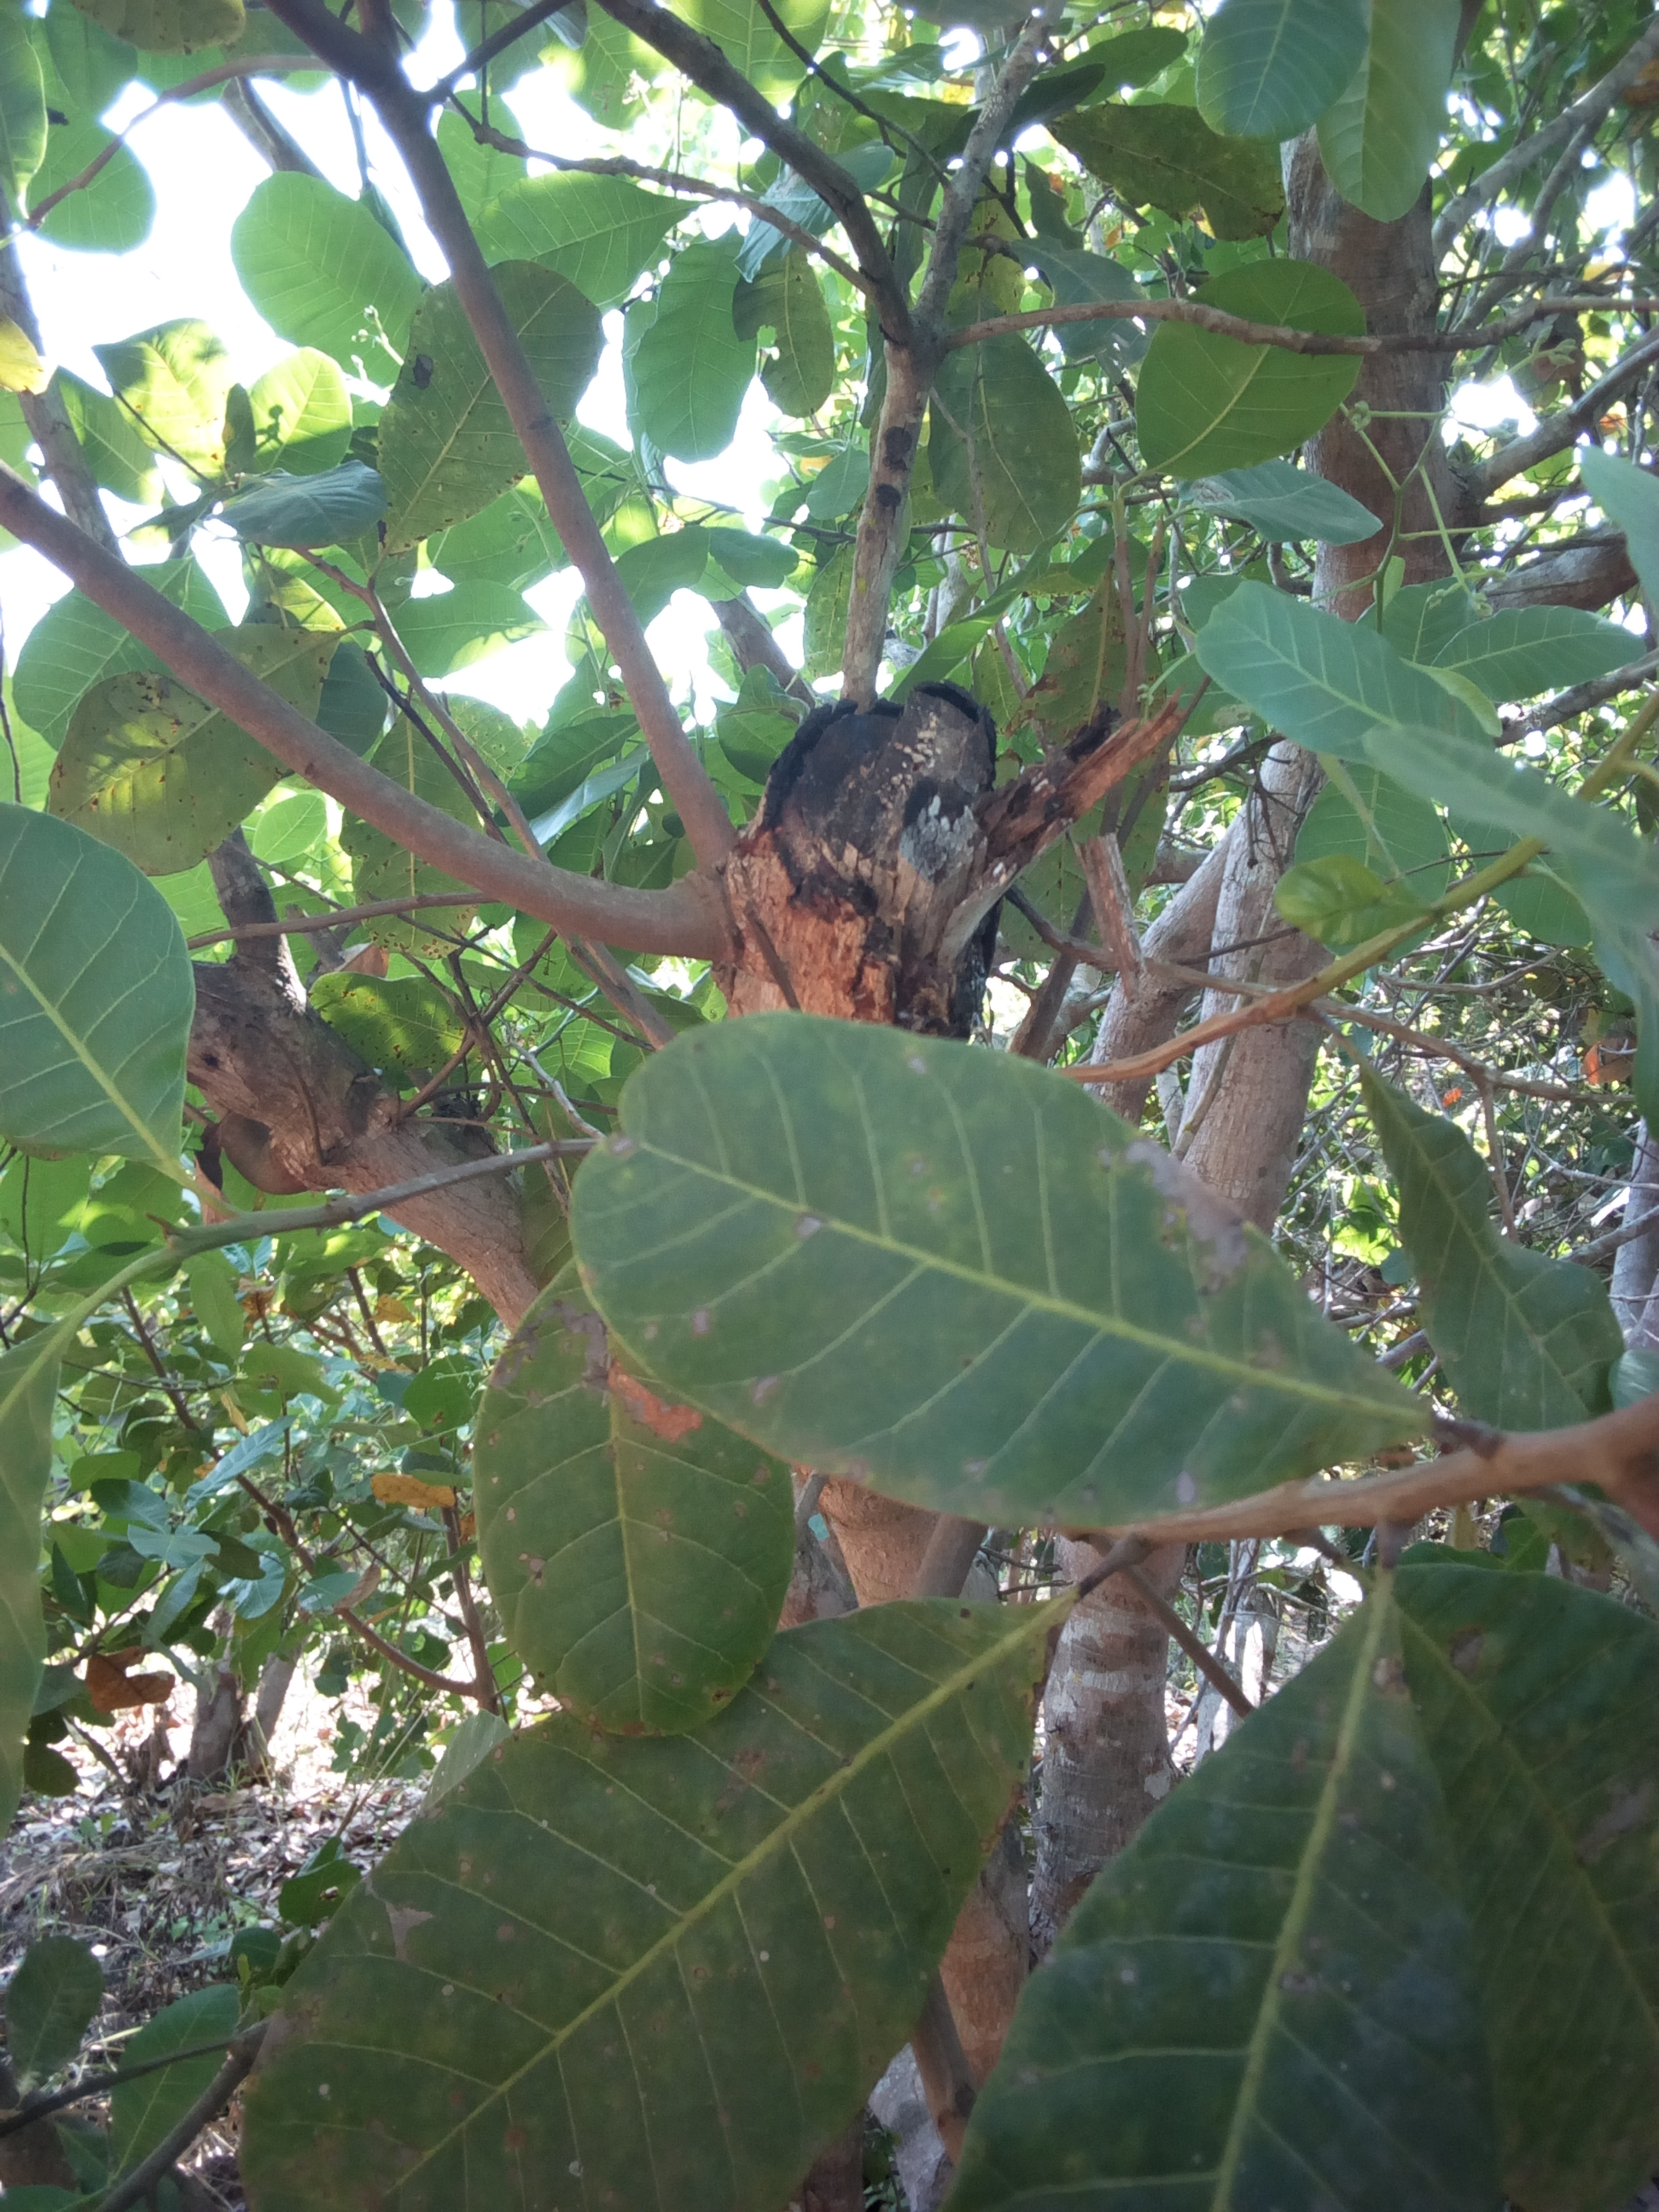Alternariose: (220, 1597, 1060, 2193), (552, 1012, 1403, 1529)
